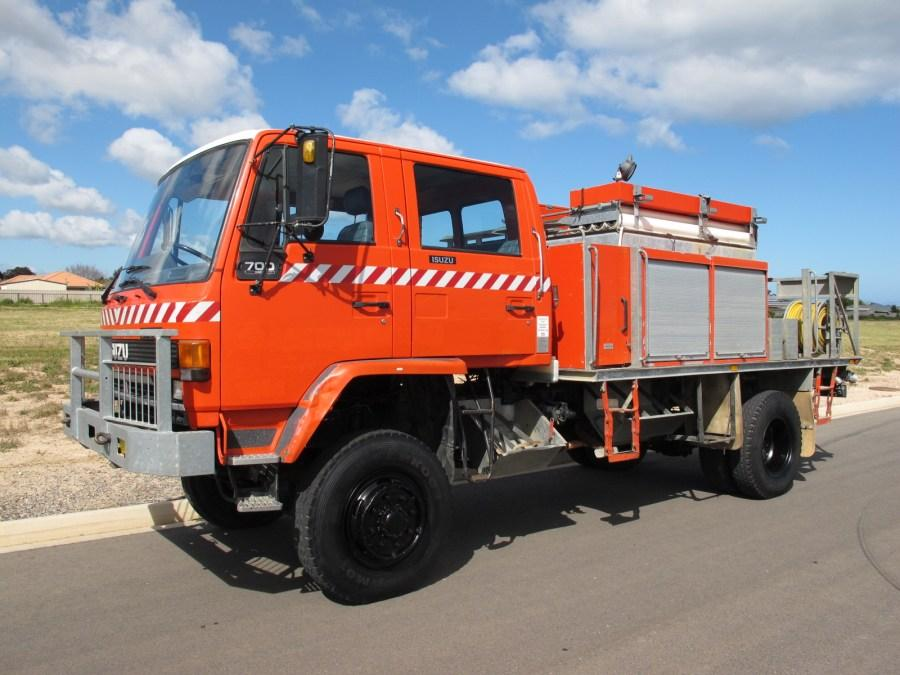Fire-engine: (59, 123, 862, 606)
